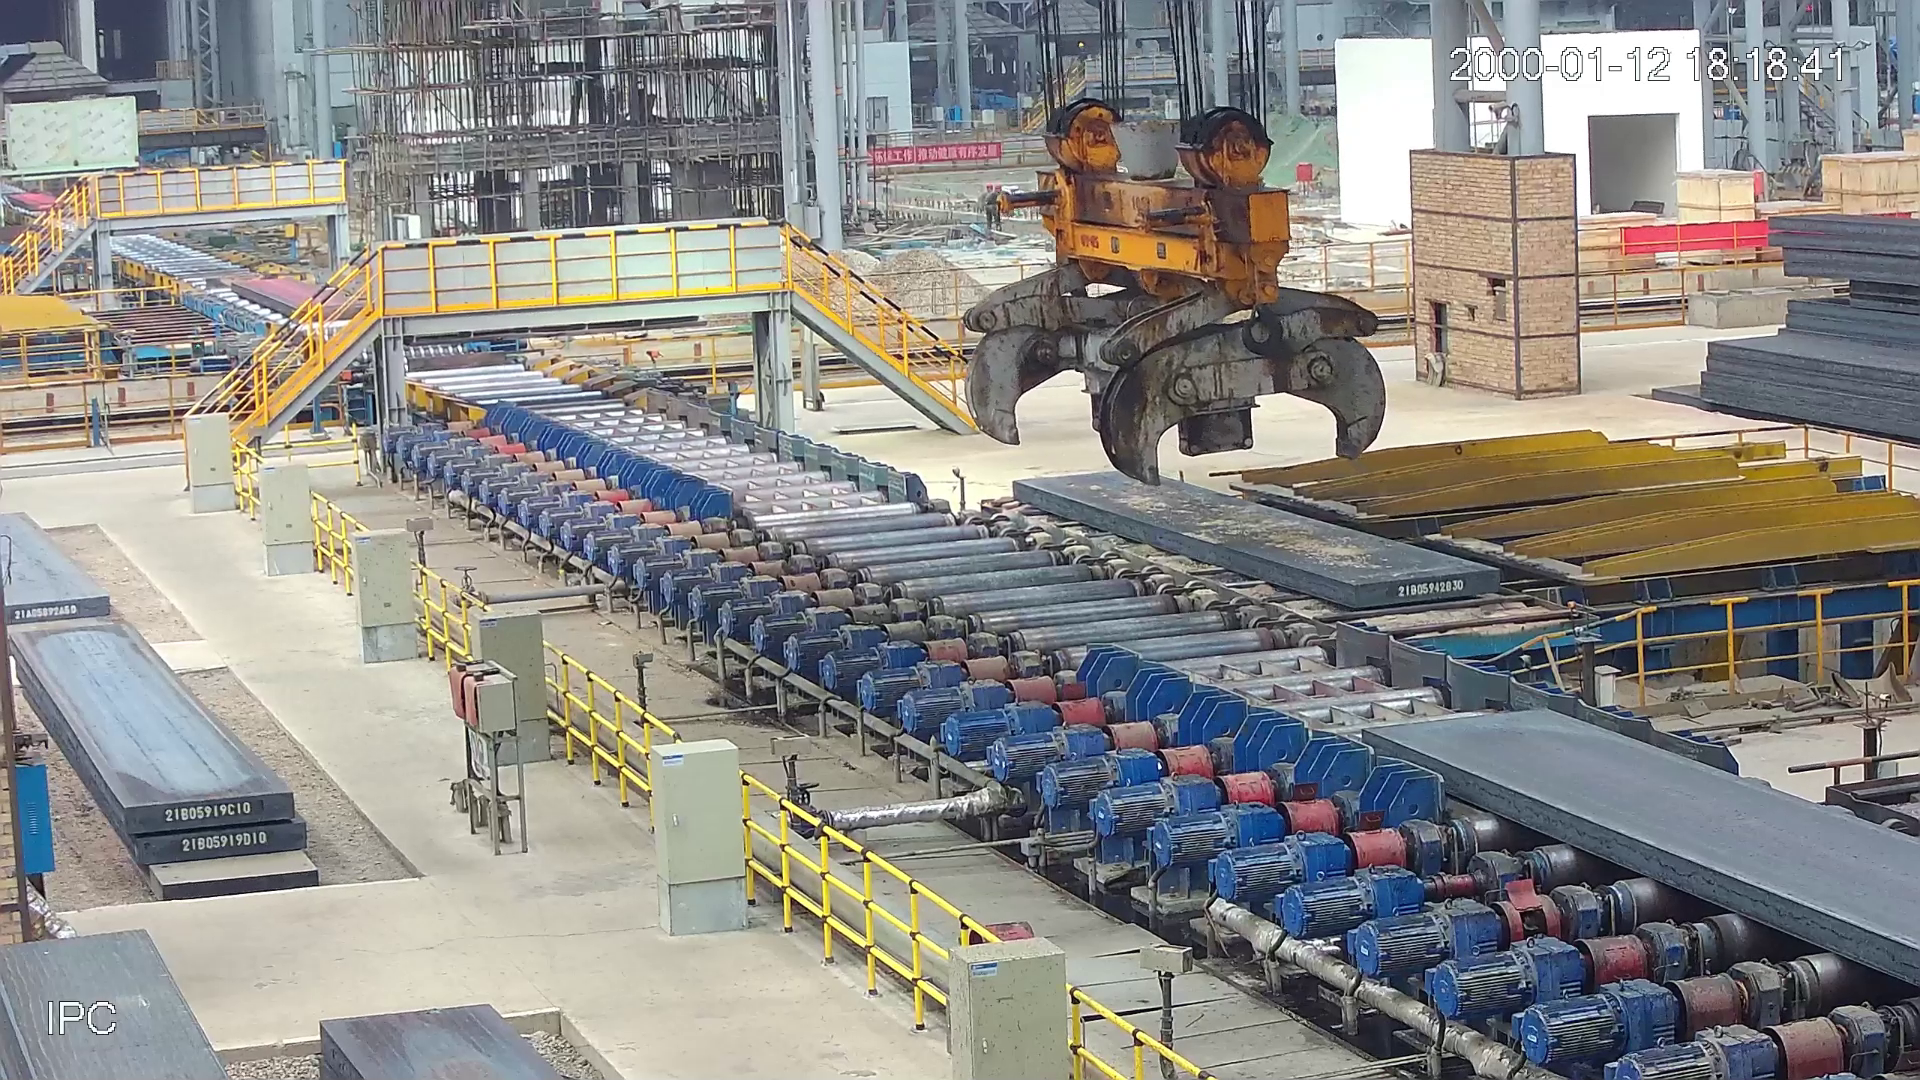crane: (957, 98, 1393, 497)
slab: (1360, 711, 1920, 981), (1004, 467, 1505, 616), (227, 273, 372, 323)
